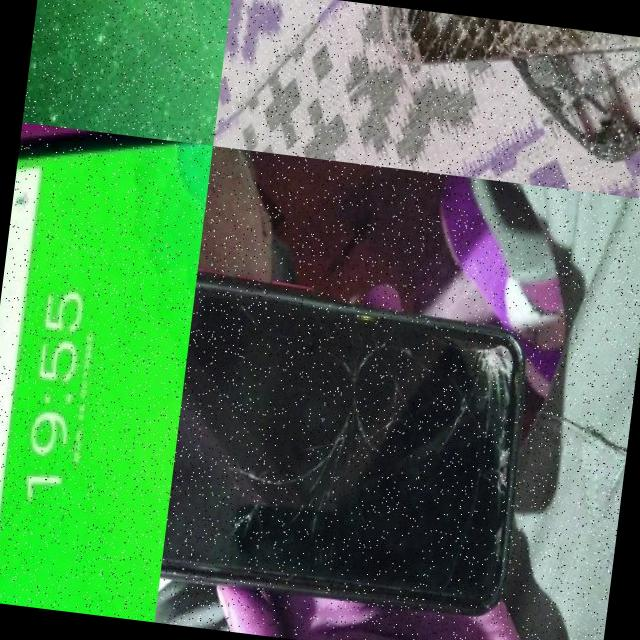screen crack: (333, 0, 640, 112), (200, 381, 374, 541), (424, 328, 528, 532)
